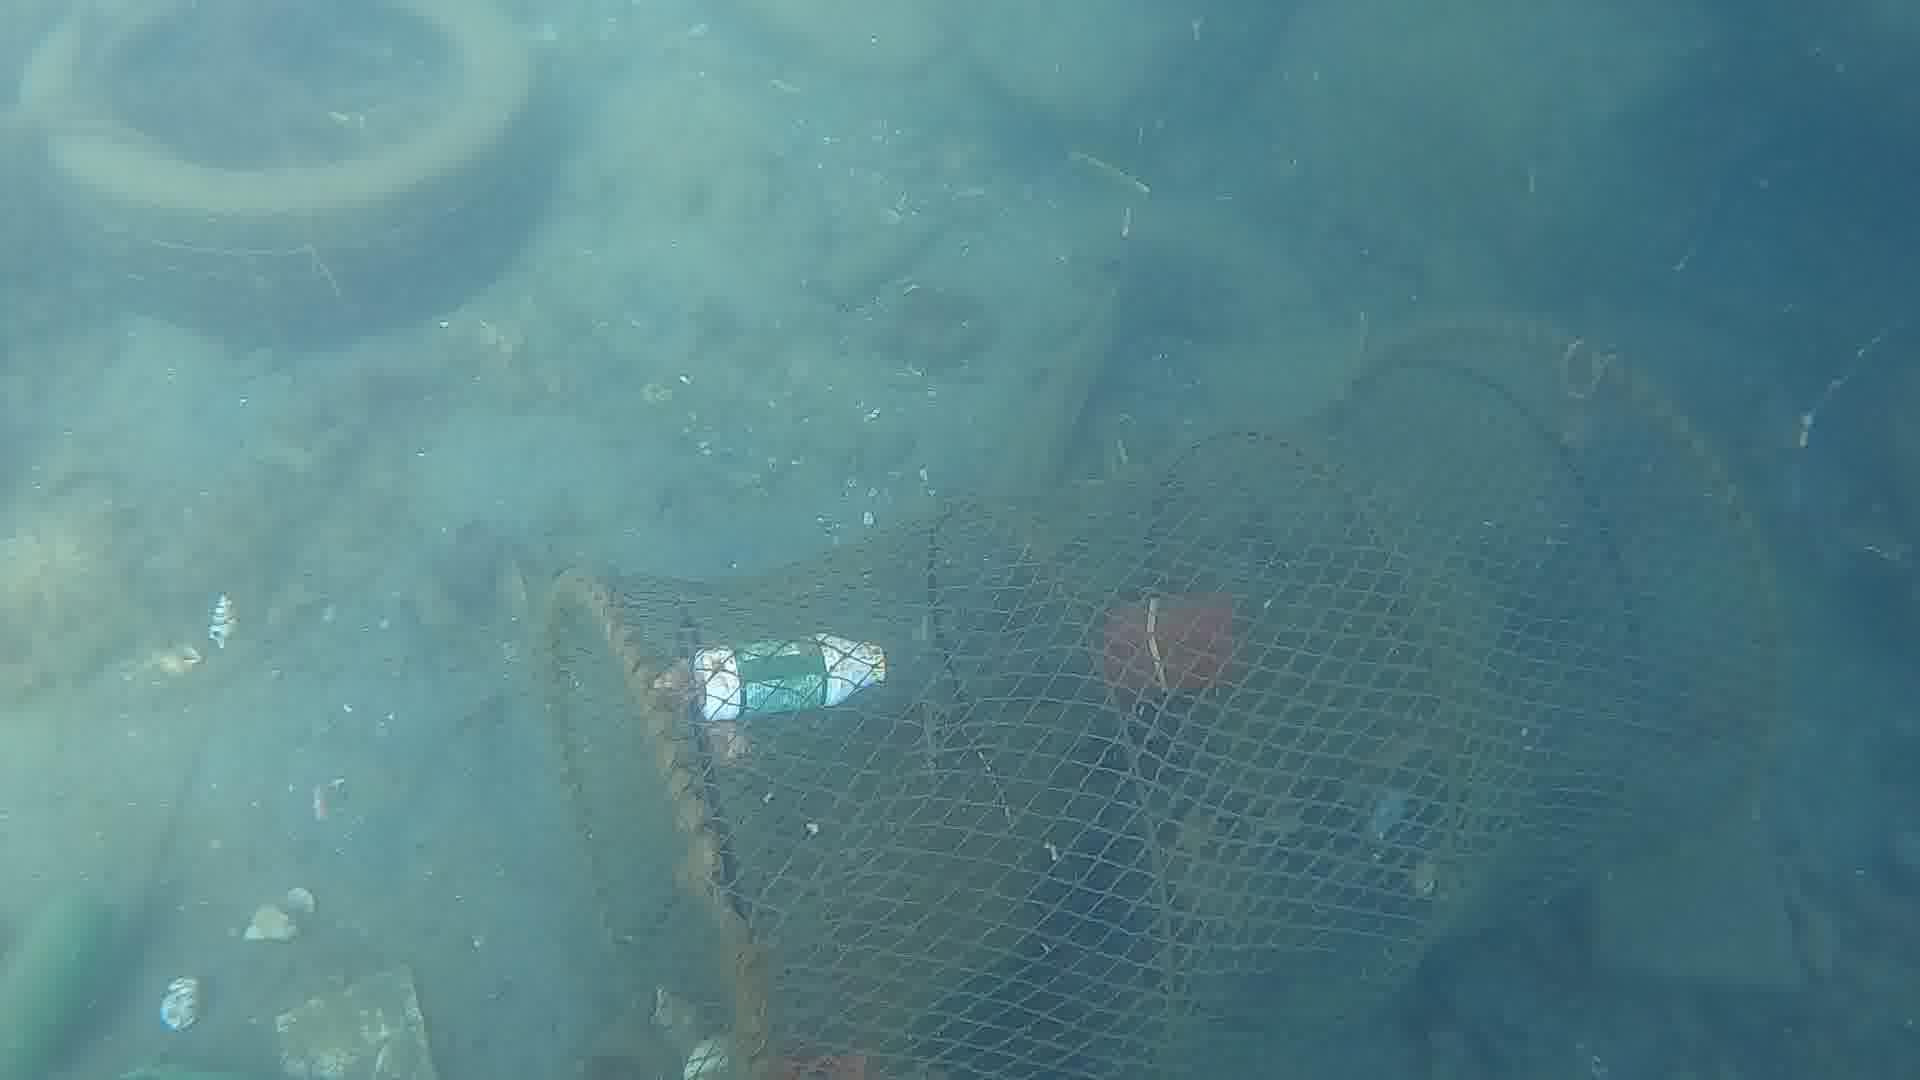spring fish trap: (522, 302, 1803, 1080)
tire: (7, 0, 550, 349)
